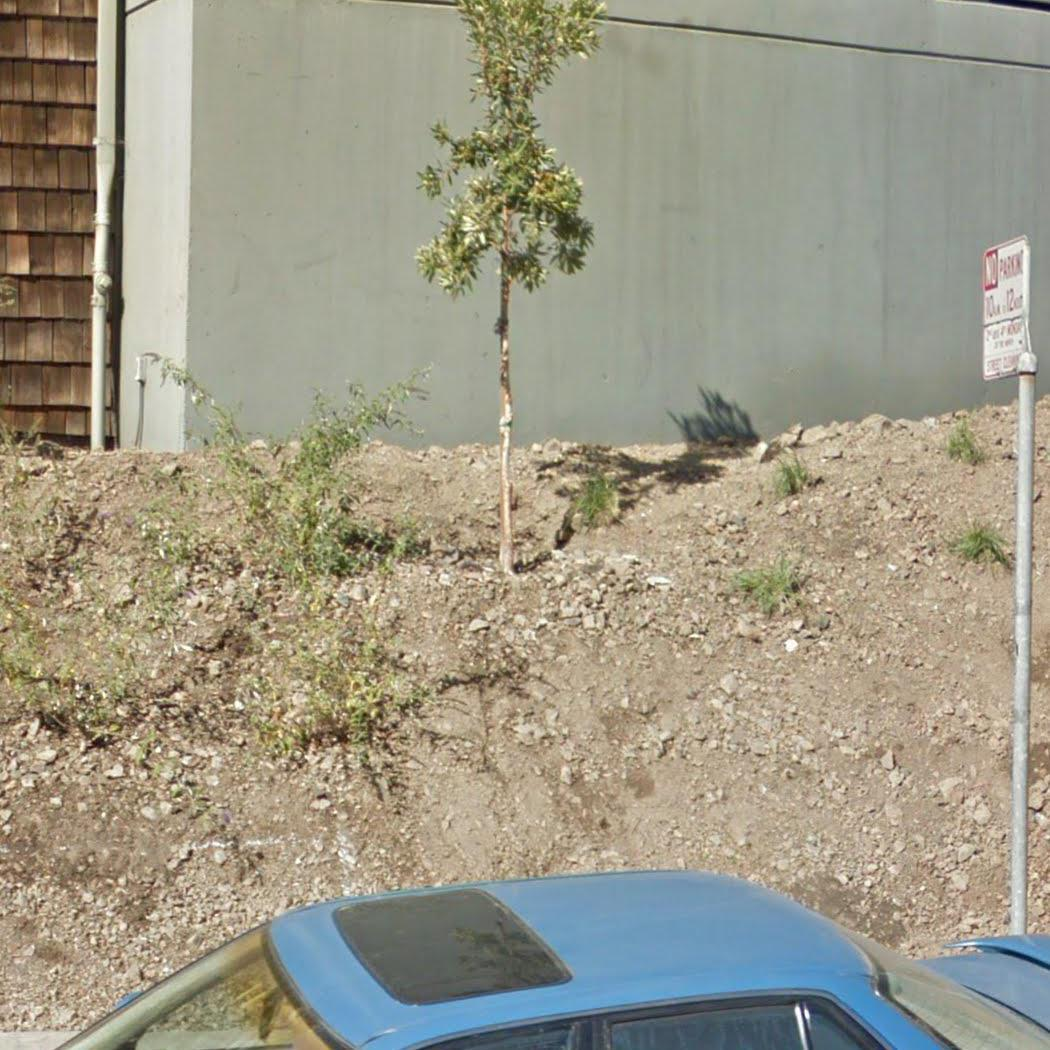No Parking: (978, 233, 1035, 385)
